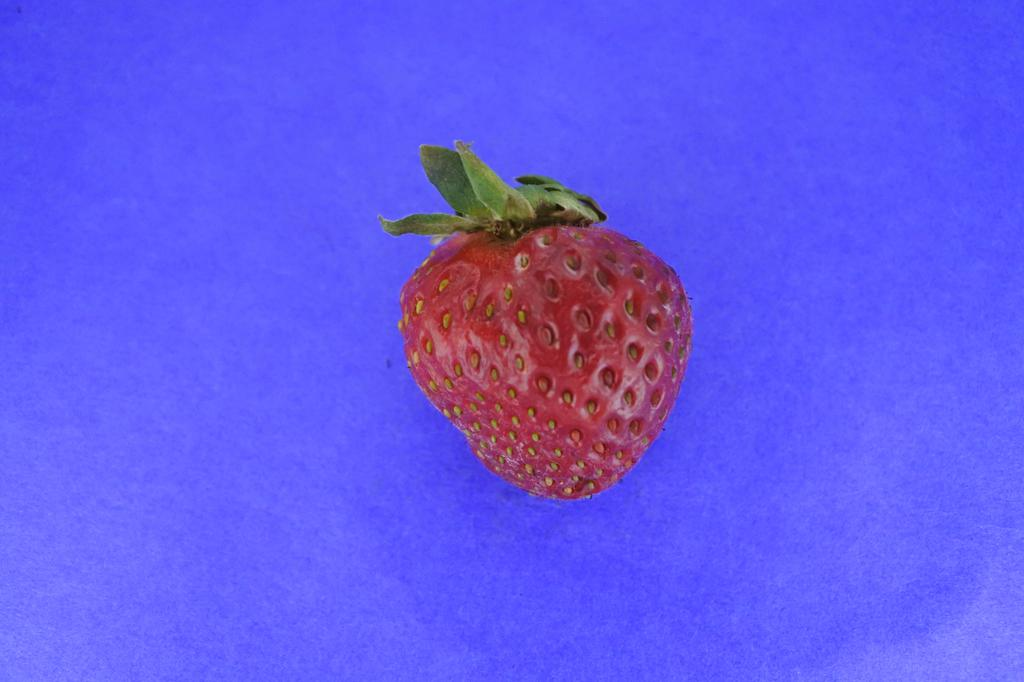red strawberry: (380, 142, 696, 500)
